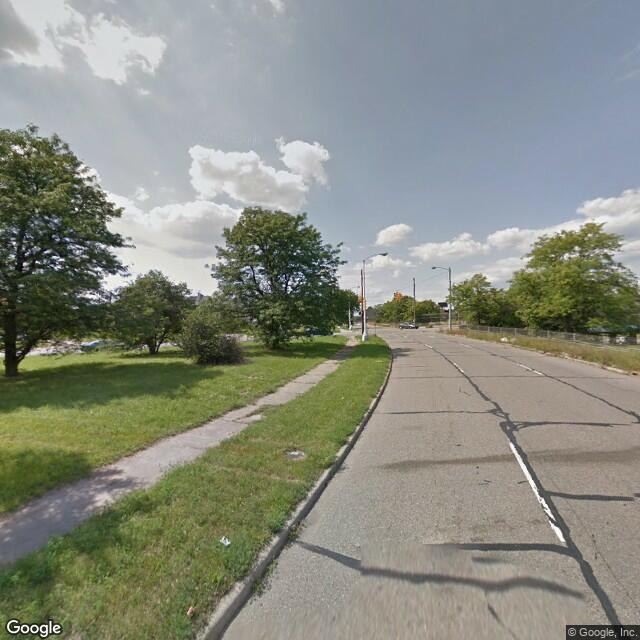litter: (219, 534, 234, 546), (185, 606, 197, 615), (500, 336, 510, 343)
